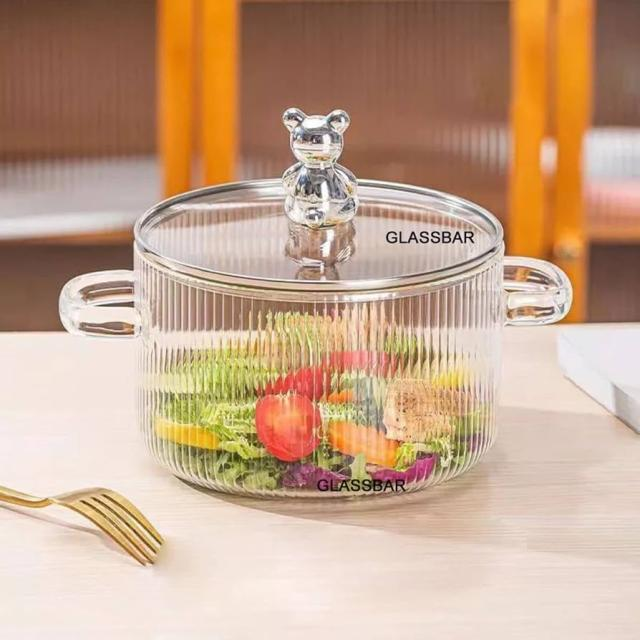glass: (44, 90, 609, 533)
